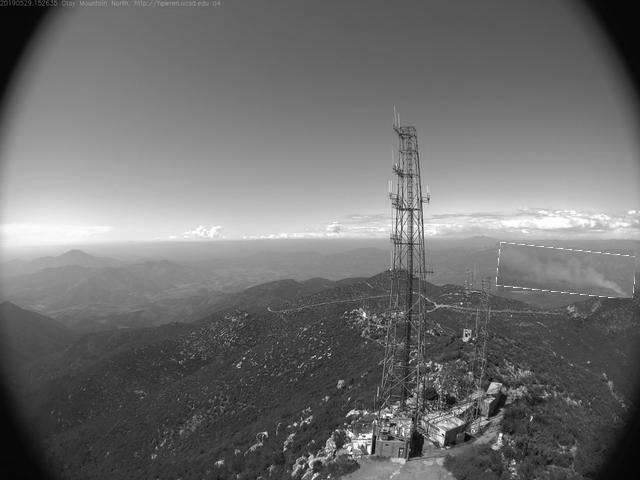smoke: (498, 247, 637, 297)
